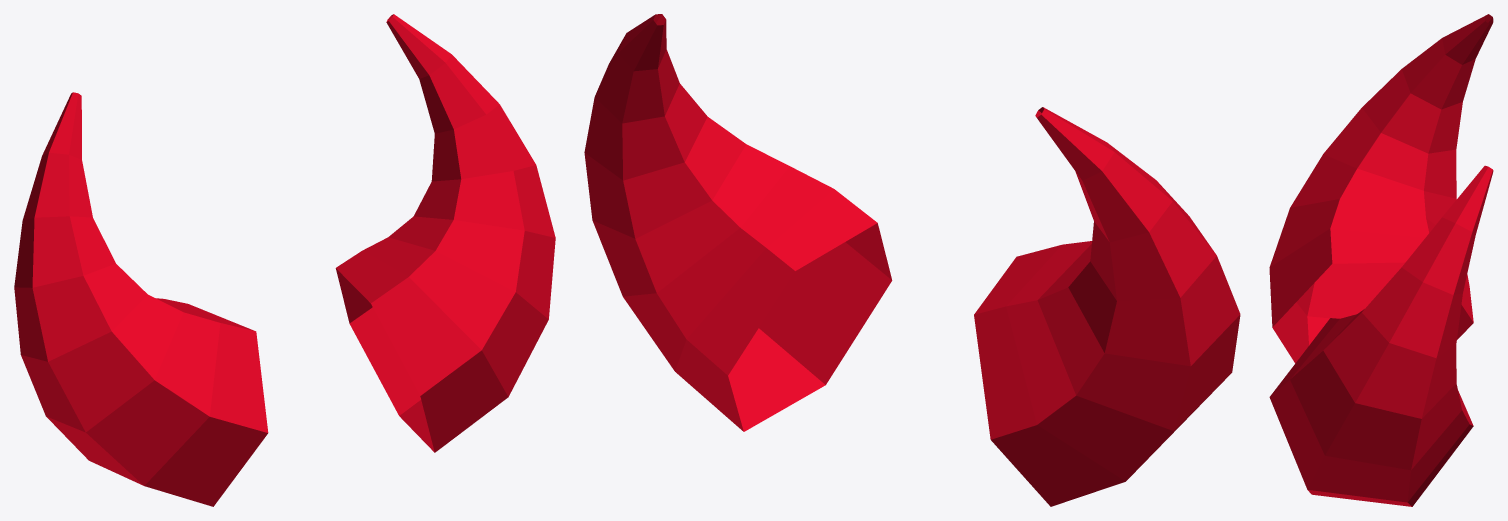
File: Horns_V1.5.fbx
The picture shows the model from 3 angles, left to right: view 1: azimuth 30°, elevation 25°; view 2: azimuth 150°, elevation 25°; view 3: azimuth 270°, elevation 25°; orthographic projection. The views are drawn at different scales.
Visible parts, largest first — view 1: NurbsPath; view 2: NurbsPath; view 3: NurbsPath.
Part boxes in pixels (bbox=[...]): NurbsPath: bbox=[14, 14, 555, 506]; NurbsPath: bbox=[584, 14, 1240, 506]; NurbsPath: bbox=[1269, 14, 1493, 506].
Size of the model in its own units: 89.23 by 61.35 by 34.95.
